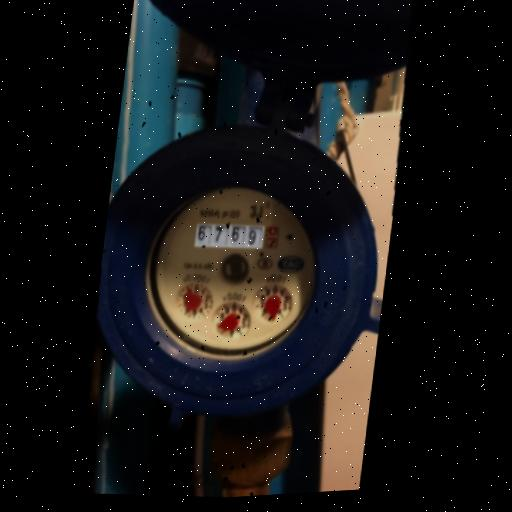6: (265, 226, 279, 249), (229, 225, 245, 245), (196, 225, 211, 246)
7: (212, 225, 228, 245)
9: (246, 226, 262, 246)
border_water_meter_number: (193, 218, 281, 255)
